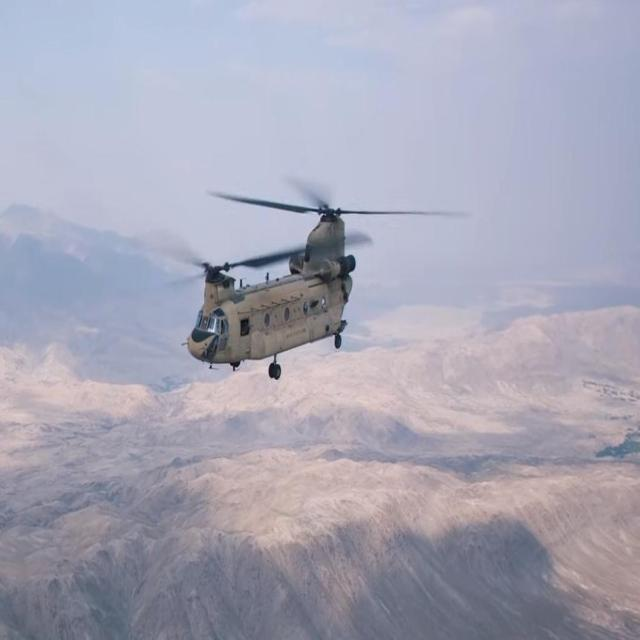Helicopter: (182, 195, 395, 387)
